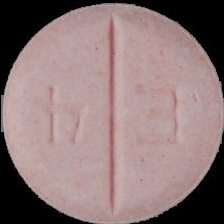0179-0074: (0, 0, 224, 224)
